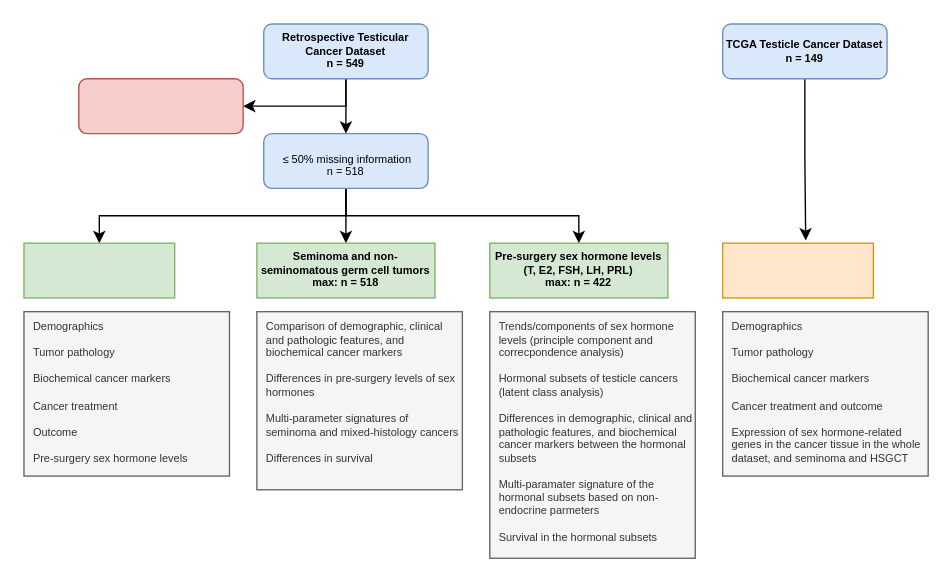
Some shapes in this 952 by 582 pixel diagram are drawn without their labels. The box of each missing label's shape, as (x1, y1, x2, y2) in pixels:
Cohort characteristic max: n = 518: (23, 242, 175, 298)
Cohort characteristic, gene expression: (721, 242, 873, 298)
excluded due to >50% data missingness n = 31: (77, 77, 243, 134)
